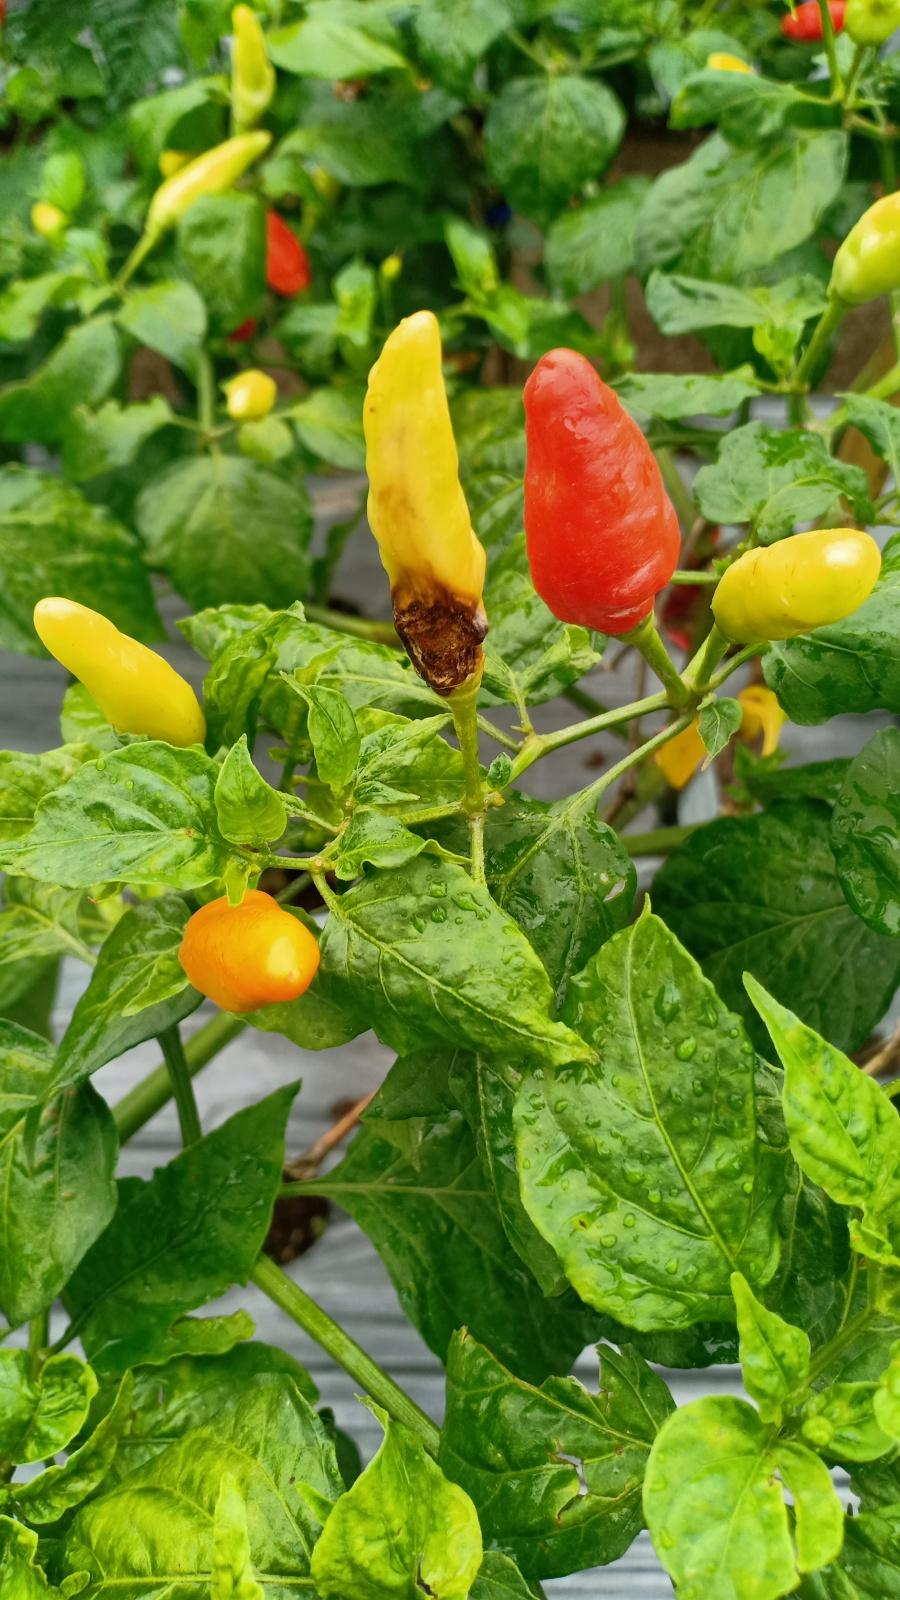antraknosa: (359, 308, 490, 688)
cabai_normal: (519, 344, 682, 638), (34, 597, 212, 753), (710, 527, 884, 638), (180, 886, 321, 1008), (146, 127, 277, 215), (831, 190, 900, 301), (229, 3, 277, 121), (262, 216, 305, 295), (221, 373, 284, 418)
